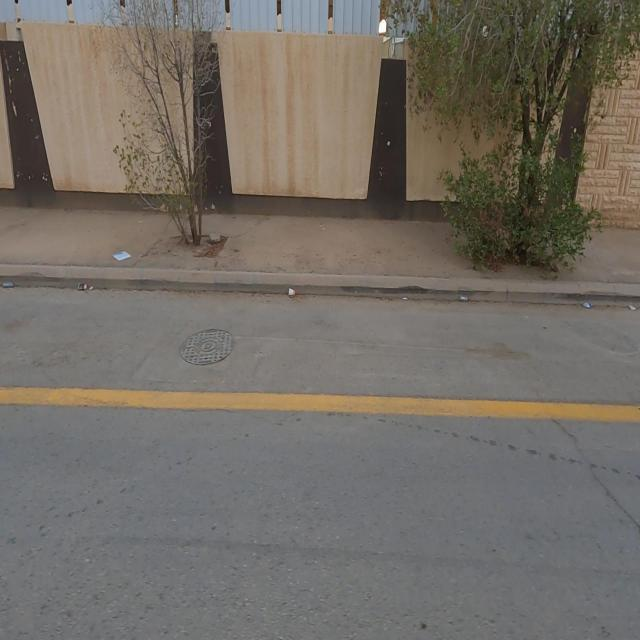debris: (269, 254, 330, 332), (558, 266, 614, 336), (90, 222, 153, 284), (448, 269, 480, 330)
